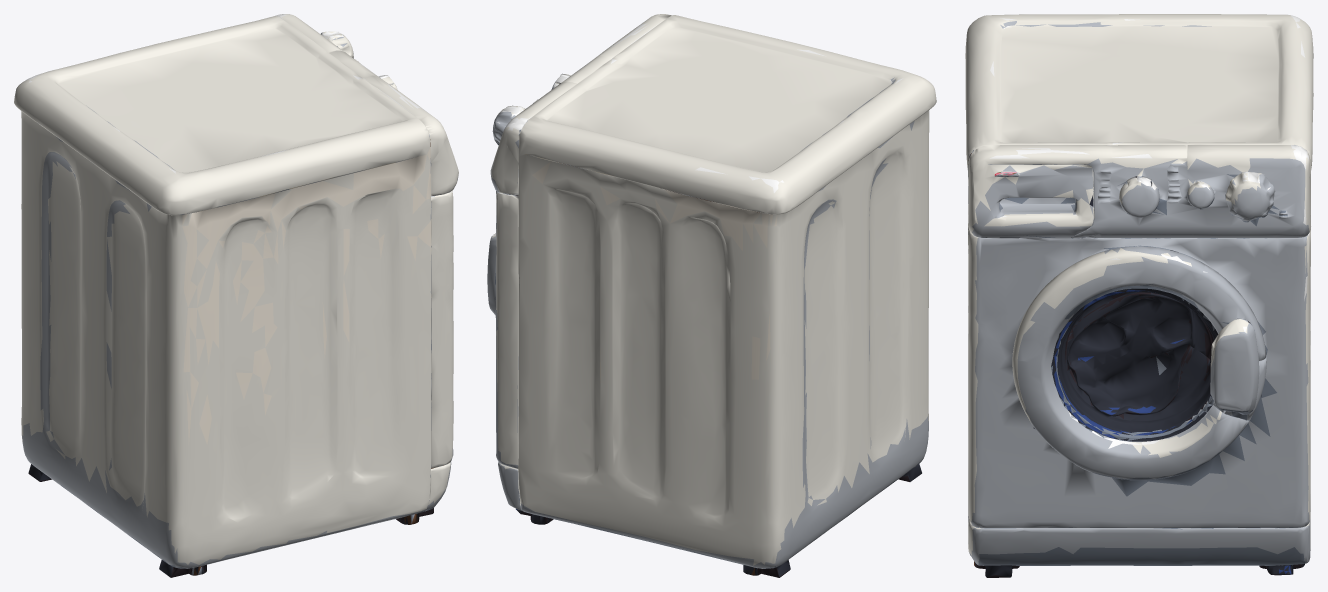
File: SM_washing_machine.glb
3 views of the same model, side by side, from view 1: azimuth 30°, elevation 25°; view 2: azimuth 150°, elevation 25°; view 3: azimuth 270°, elevation 25° (orthographic). The views are drawn at different scales.
Visible parts, largest first — view 1: SM_washing_machine; view 2: SM_washing_machine; view 3: SM_washing_machine.
Part boxes in pixels (<box>): SM_washing_machine: <box>14,14,458,577</box>; SM_washing_machine: <box>487,14,936,577</box>; SM_washing_machine: <box>965,14,1313,577</box>.
Bounding box in the file's own units: 0.7264 × 0.85 × 0.626.
Materials: 1 (1 with a texture image).
